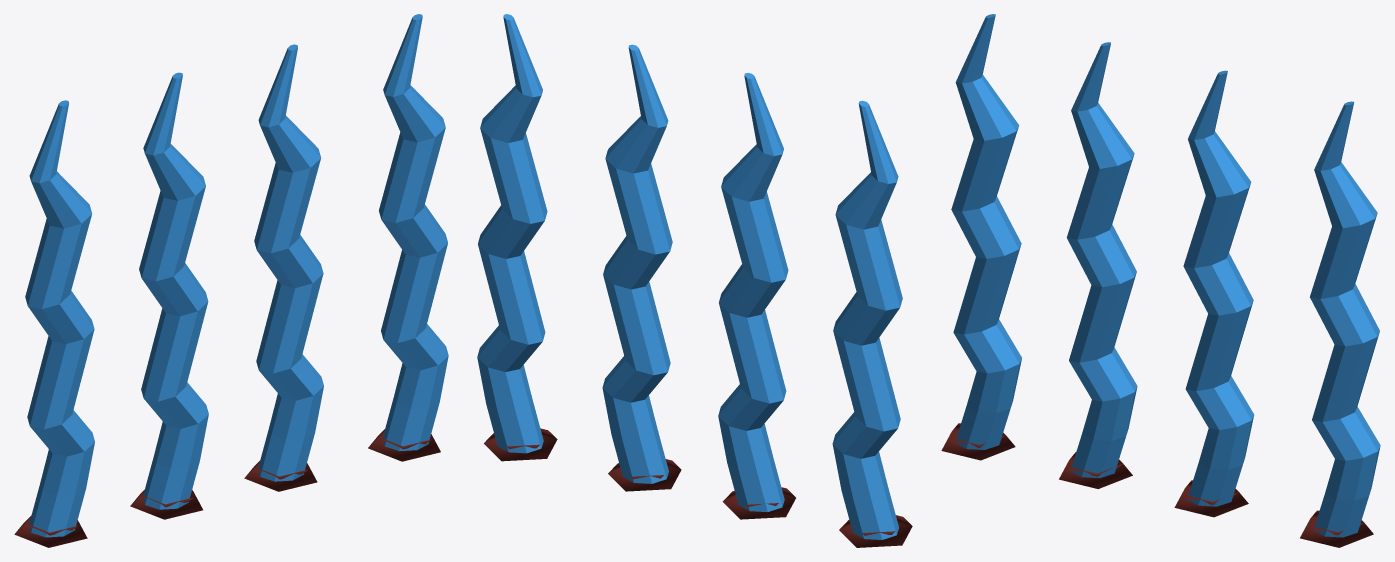
File: cage.fbx
The picture shows the model from 3 angles, left to right: view 1: azimuth 30°, elevation 25°; view 2: azimuth 150°, elevation 25°; view 3: azimuth 330°, elevation 25°; orthographic projection.
Parts seen in each view (by area): view 1: valla.3, valla.2, valla.4, valla.1, base1, base.4, base.2, base.3; view 2: valla.3, valla.2, valla.4, valla.1, base1, base.4, base.2, base.3; view 3: valla.2, valla.1, valla.4, valla.3, base.3, base.2, base1, base.4.
Part boxes in pixels (left/top/right/bottom): valla.3: left=139, top=72, right=208, bottom=509; valla.2: left=254, top=44, right=323, bottom=481; valla.4: left=25, top=100, right=94, bottom=537; valla.1: left=379, top=14, right=448, bottom=451; base1: left=368, top=429, right=440, bottom=461; base.4: left=14, top=516, right=87, bottom=547; base.2: left=244, top=461, right=317, bottom=491; base.3: left=130, top=489, right=202, bottom=519; valla.3: left=718, top=73, right=788, bottom=512; valla.2: left=602, top=44, right=672, bottom=483; valla.4: left=832, top=100, right=902, bottom=539; valla.1: left=477, top=14, right=547, bottom=453; base1: left=484, top=428, right=557, bottom=461; base.4: left=839, top=515, right=912, bottom=547; base.2: left=608, top=459, right=681, bottom=491; base.3: left=722, top=487, right=795, bottom=519; valla.2: left=1183, top=70, right=1254, bottom=506; valla.1: left=1310, top=101, right=1380, bottom=537; valla.4: left=951, top=14, right=1021, bottom=449; valla.3: left=1066, top=42, right=1137, bottom=478; base.3: left=1059, top=452, right=1132, bottom=488; base.2: left=1174, top=480, right=1248, bottom=517; base1: left=1300, top=510, right=1373, bottom=547; base.4: left=941, top=423, right=1015, bottom=460.
Bounding box in the file's own units: 3.57 × 3.41 × 0.5252.
